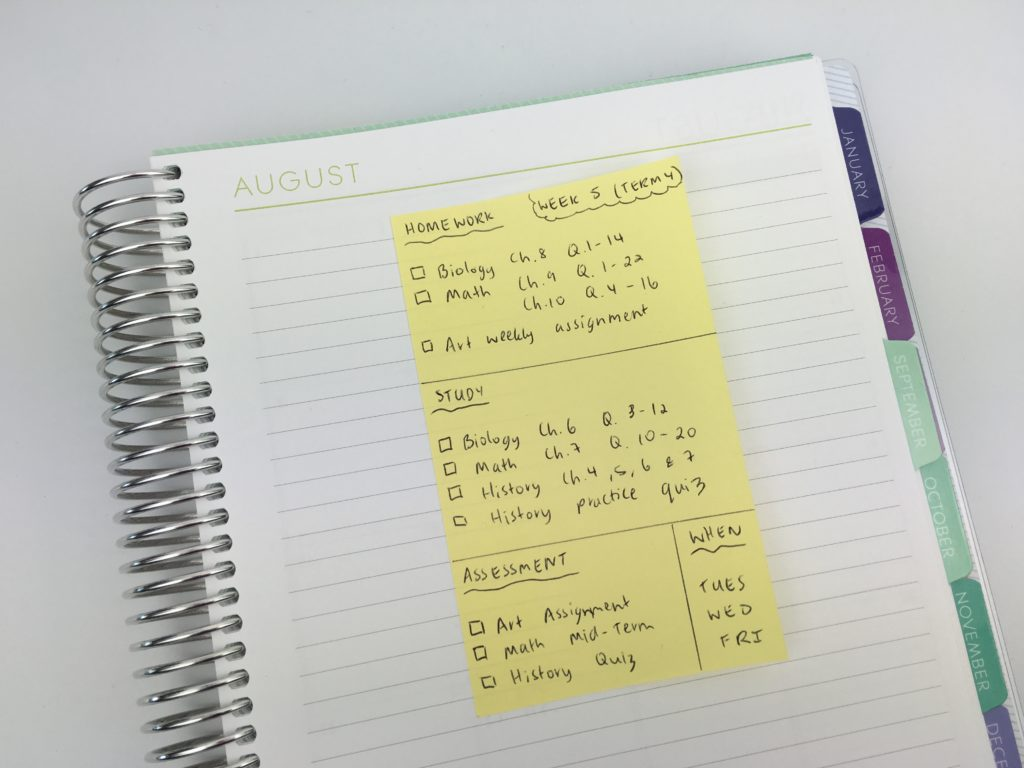Note: (392, 162, 788, 715)
